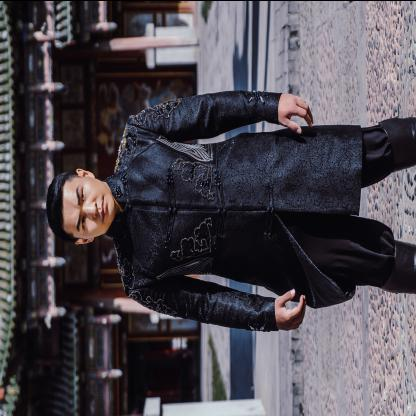Eye: (81, 187, 86, 202), (82, 214, 86, 229)
Mouth: (101, 193, 107, 222)
Nose: (84, 201, 97, 218)
